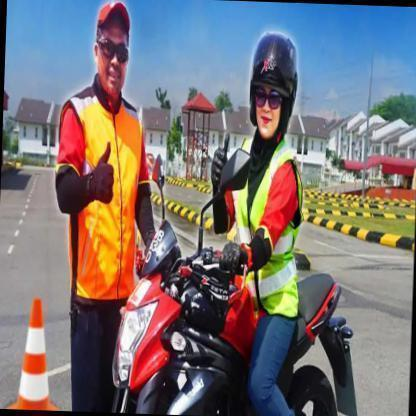no-helmet: (249, 30, 303, 143), (84, 0, 140, 63)
vest: (64, 84, 145, 292), (230, 133, 310, 315)
